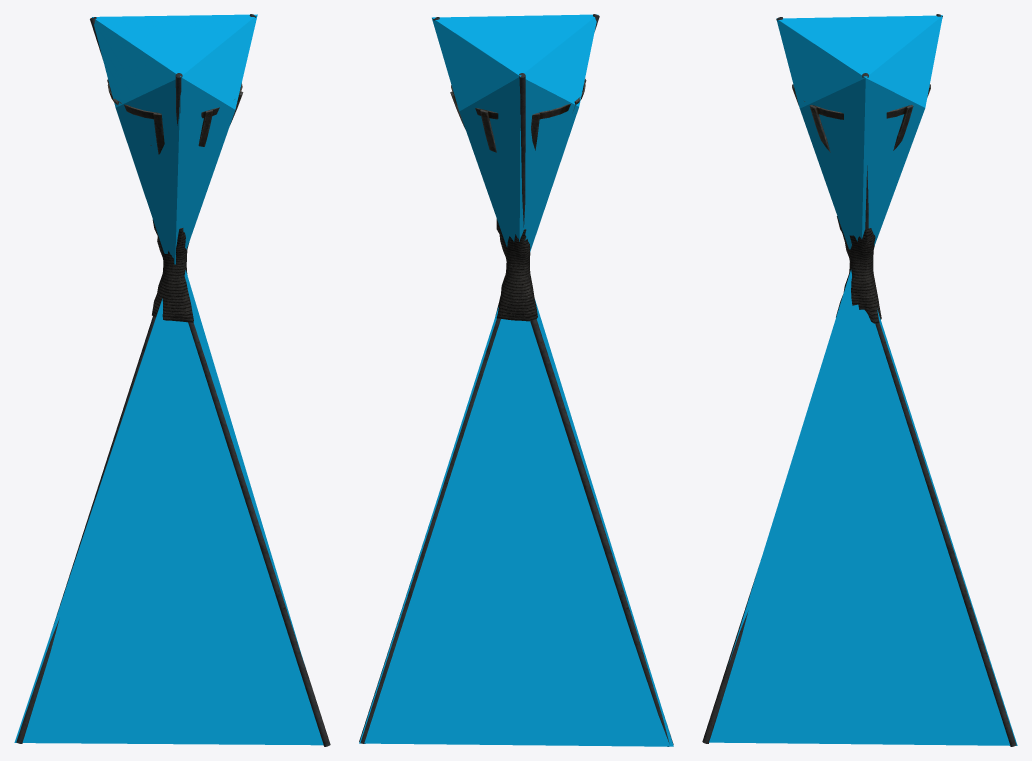
Rendered from JWC_Brazier_Kagaribi_A_02.fbx.
The picture shows the model from 3 angles, left to right: view 1: azimuth 30°, elevation 25°; view 2: azimuth 150°, elevation 25°; view 3: azimuth 270°, elevation 25°; orthographic projection.
Parts seen in each view (by area): view 1: C_JWC_Brazier_Kagaribi_A_02_001, C_JWC_Brazier_Kagaribi_A_02, JWC_Brazier_Kagaribi_A_02; view 2: C_JWC_Brazier_Kagaribi_A_02_001, C_JWC_Brazier_Kagaribi_A_02, JWC_Brazier_Kagaribi_A_02; view 3: C_JWC_Brazier_Kagaribi_A_02_001, C_JWC_Brazier_Kagaribi_A_02, JWC_Brazier_Kagaribi_A_02.
Part boxes in pixels (x1,y1,x2,y2): C_JWC_Brazier_Kagaribi_A_02_001: (14,270,323,745); C_JWC_Brazier_Kagaribi_A_02: (92,14,257,264); JWC_Brazier_Kagaribi_A_02: (16,14,330,746); C_JWC_Brazier_Kagaribi_A_02_001: (359,300,673,746); C_JWC_Brazier_Kagaribi_A_02: (432,14,597,251); JWC_Brazier_Kagaribi_A_02: (359,14,673,746); C_JWC_Brazier_Kagaribi_A_02_001: (709,270,1017,745); C_JWC_Brazier_Kagaribi_A_02: (776,15,942,249); JWC_Brazier_Kagaribi_A_02: (702,14,1016,746).
Bounding box in the file's own units: 0.6728 × 1.78 × 0.7566.
